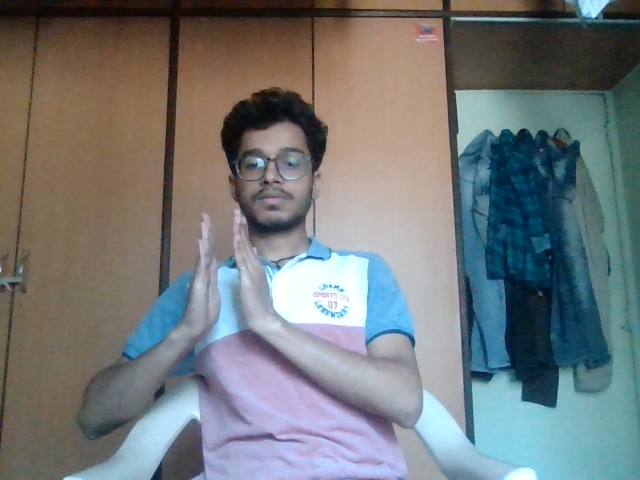morning: (163, 194, 321, 349)
